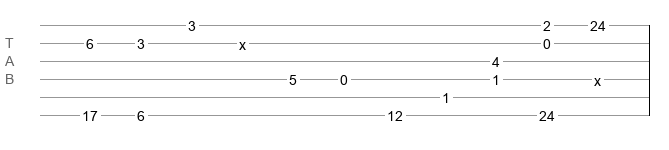0: (340, 72, 348, 82), (543, 36, 551, 46)
1: (442, 90, 450, 100), (492, 72, 500, 82)
12: (387, 108, 403, 118)
17: (82, 108, 98, 118)
2: (543, 18, 551, 28)
24: (539, 108, 555, 118), (590, 18, 606, 28)
3: (137, 36, 145, 46), (188, 18, 196, 28)
4: (492, 54, 500, 64)
5: (289, 72, 297, 82)
6: (86, 36, 94, 46), (137, 108, 145, 118)
x: (239, 37, 246, 45), (594, 73, 601, 81)
